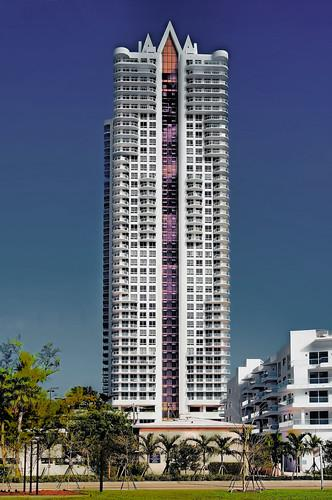building: (96, 17, 234, 469)
